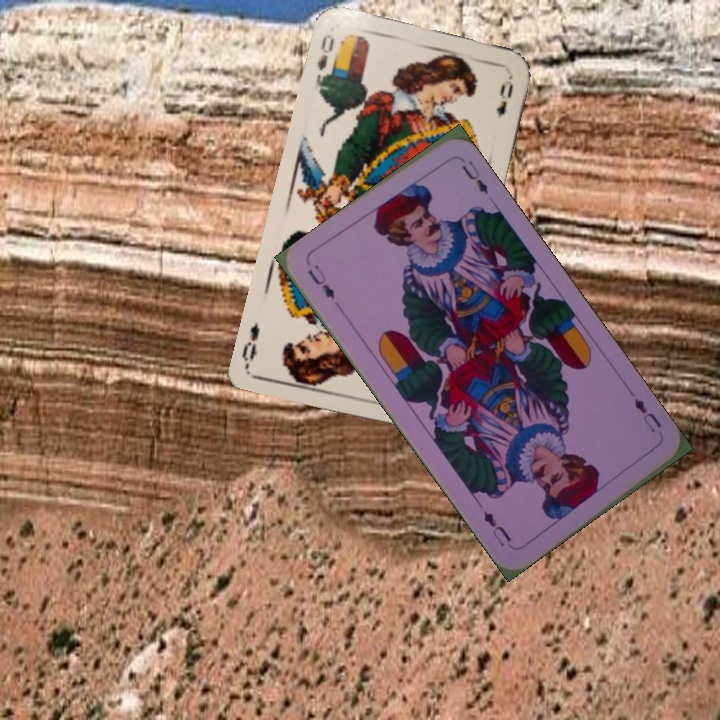EO: (312, 30, 340, 85)
EU: (303, 260, 338, 303), (630, 394, 665, 435)
